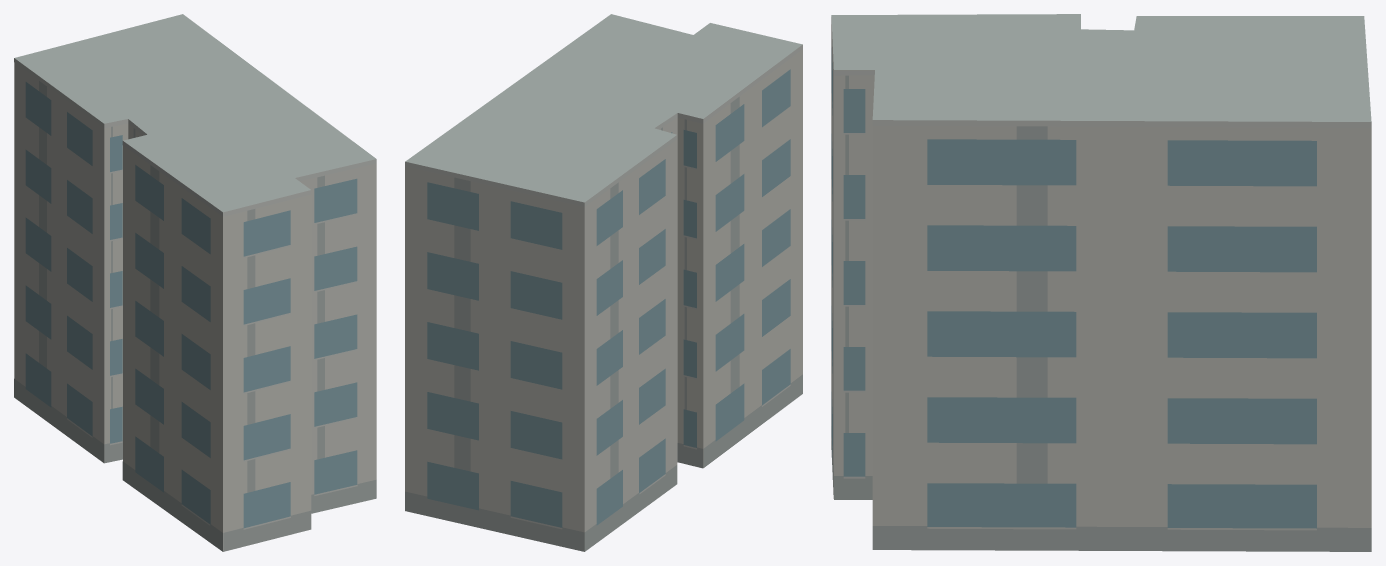
Rendered from survey-upis-32822745.glb.
3 renders of one model, left to right at view 1: azimuth 30°, elevation 25°; view 2: azimuth 150°, elevation 25°; view 3: azimuth 270°, elevation 25°, orthographic. The views are drawn at different scales.
Parts seen in each view (by area): view 1: survey-upis-32822745.tmp; view 2: survey-upis-32822745.tmp; view 3: survey-upis-32822745.tmp.
Boxes of the visible parts, x1,y1,x2,y2 form: survey-upis-32822745.tmp: [14, 14, 376, 551]; survey-upis-32822745.tmp: [405, 14, 802, 551]; survey-upis-32822745.tmp: [831, 14, 1371, 551].
Size of the model in its own units: 9.9 by 18.35 by 20.91.
